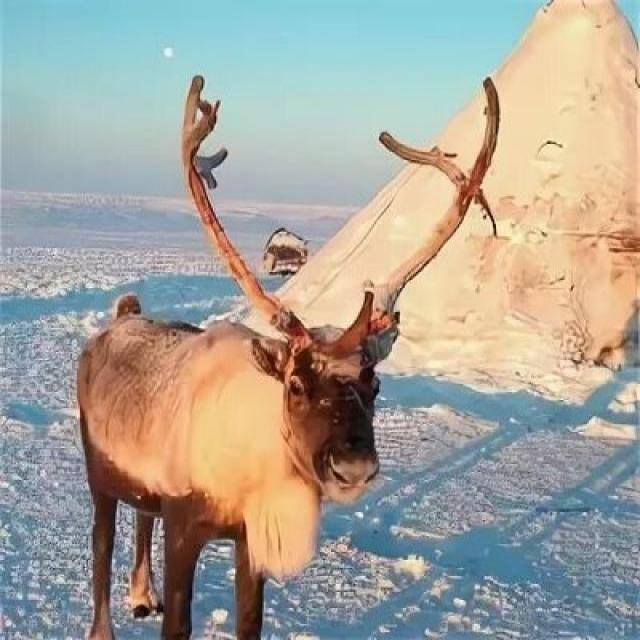deer: (29, 103, 476, 610)
